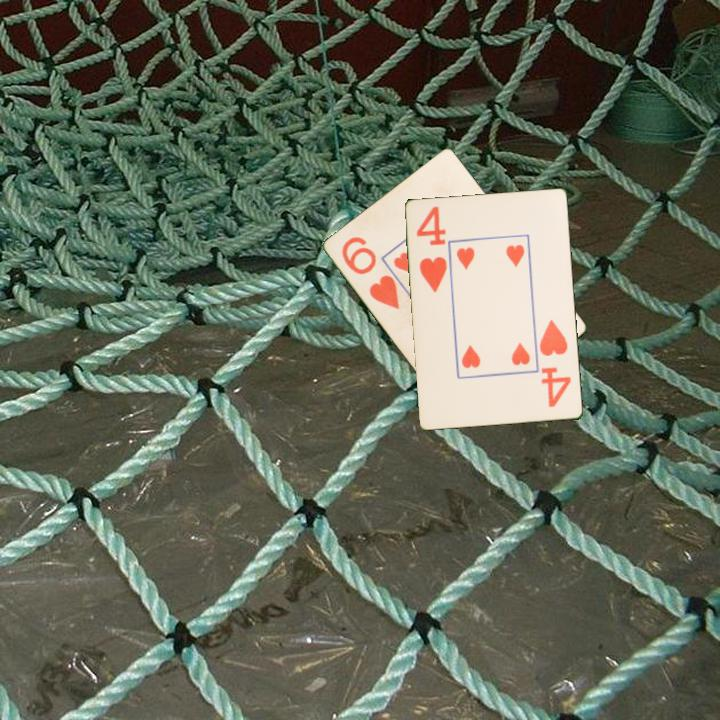4h: (536, 317, 574, 410), (413, 203, 450, 296)
6h: (338, 233, 403, 312)
